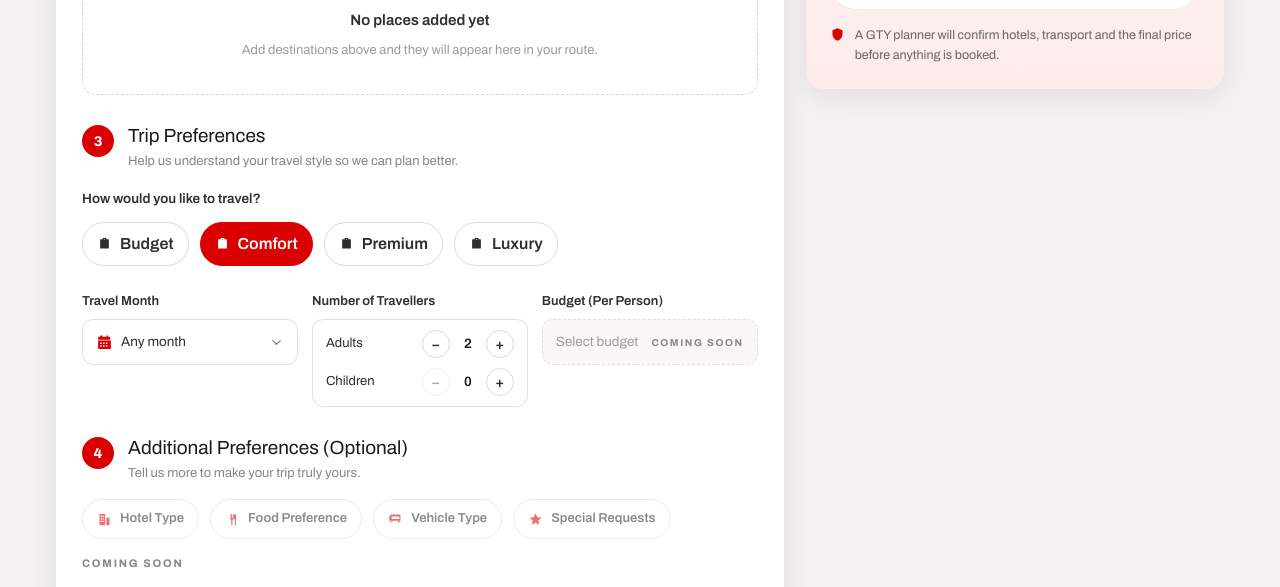
Test case: TripBuilder — preferences flow into the summary card › changing traveller counts updates the summary "Travellers" row
(page scrolled)
Click the button named "Increase adults" at (500, 344), box x1=486 y1=330 x2=514 y2=358
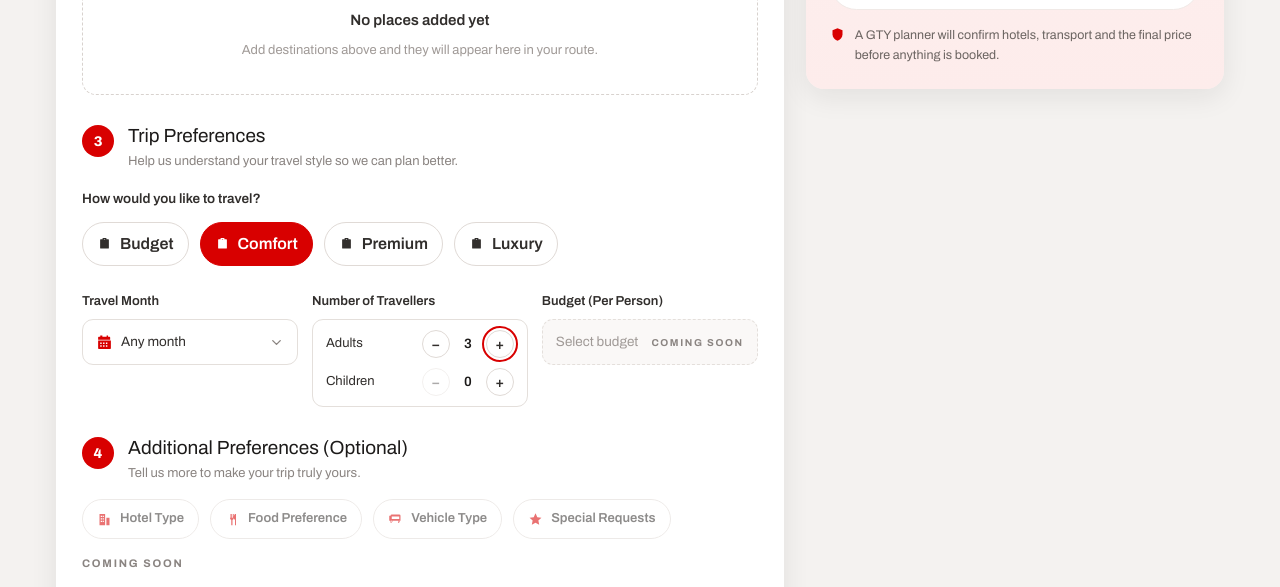
Click the button named "Increase children" at (500, 382), box x1=486 y1=368 x2=514 y2=396
(page scrolled)
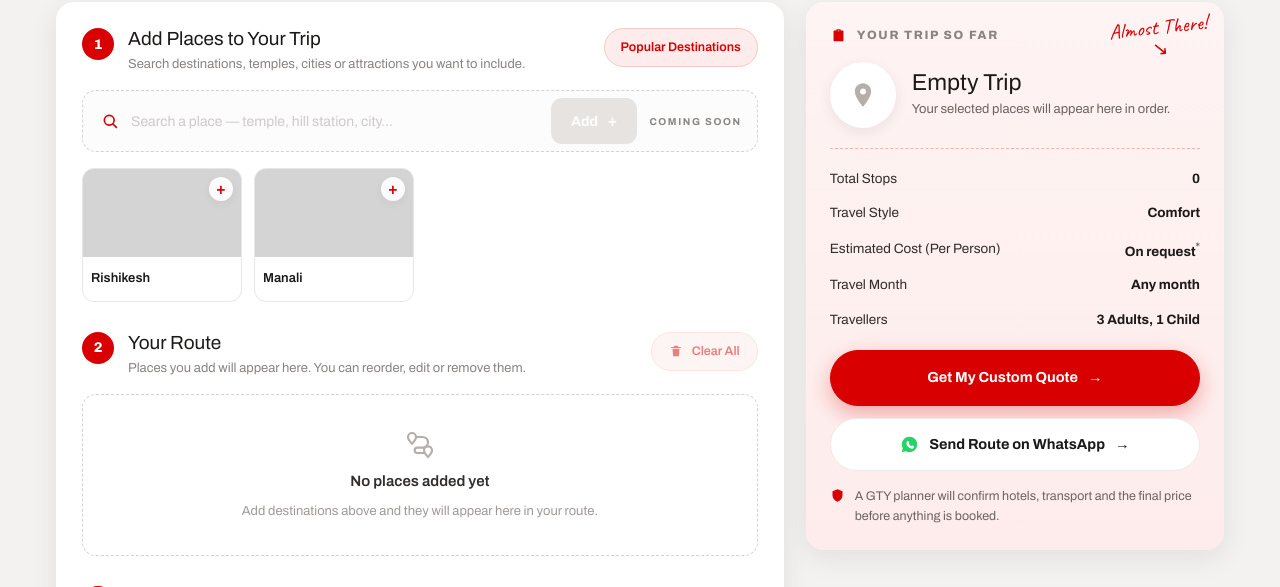
Check: the text "3 Adults, 1 Child" is shown, box x1=1097 y1=310 x2=1200 y2=330
